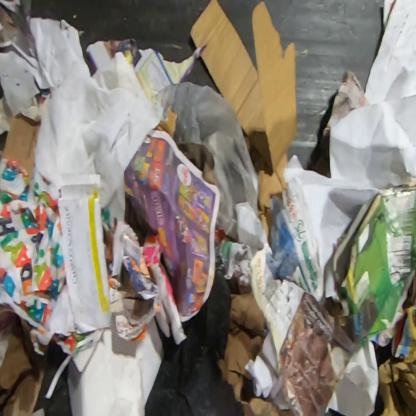cardboard: (187, 0, 299, 243), (339, 179, 415, 350), (216, 279, 294, 416), (0, 16, 83, 115), (0, 304, 51, 415), (0, 110, 42, 182), (378, 357, 415, 415), (177, 143, 218, 186), (153, 110, 176, 137)
soft_plastic: (20, 50, 162, 224), (150, 80, 260, 242)
